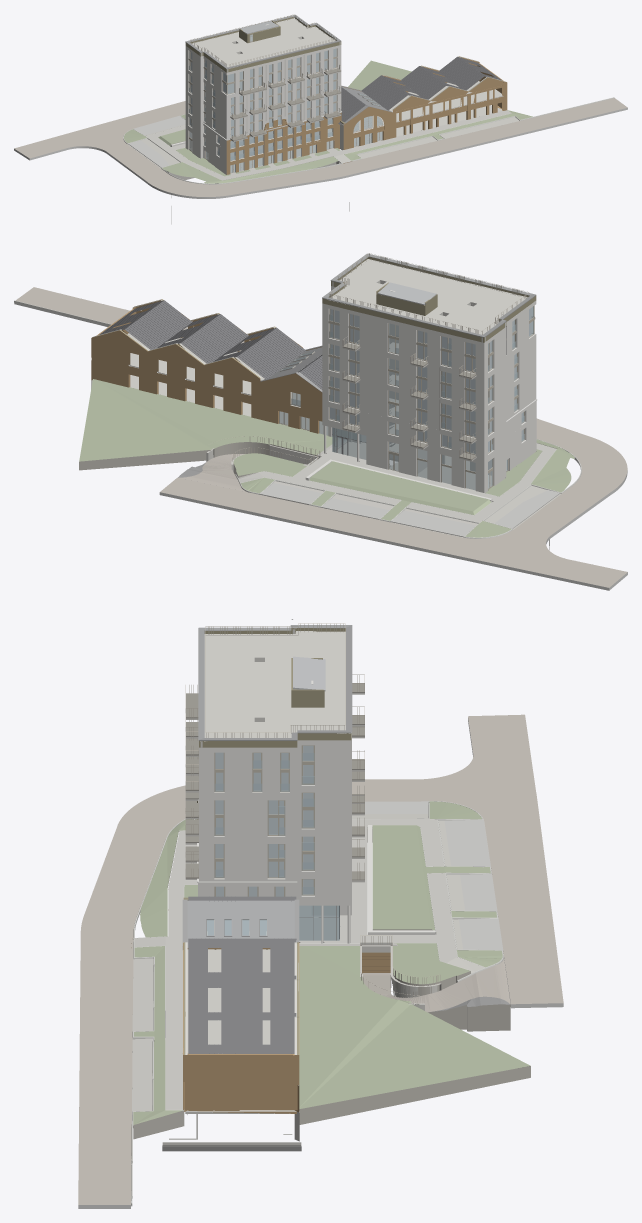
Rendered from building.glb.
3 views of the same model, one above another, from view 1: azimuth 30°, elevation 25°; view 2: azimuth 150°, elevation 25°; view 3: azimuth 270°, elevation 25° (orthographic). The views are drawn at different scales.
Visible parts, largest first — view 1: Building, SitePaving, SiteTerrain, RoofB, FLAT_byt01; view 2: Building, SitePaving, SiteTerrain, RoofB, FLAT_byt03; view 3: Building, SitePaving, SiteTerrain, RoofB, HallEnd.
Boxes of the visible parts, box(x1,y1,x2,y2) form: Building: box(128, 14, 507, 224); SitePaving: box(14, 21, 627, 198); SiteTerrain: box(124, 60, 532, 183); RoofB: box(338, 56, 501, 125); FLAT_byt01: box(205, 60, 261, 93); Building: box(91, 253, 560, 549); SitePaving: box(14, 282, 627, 590); SiteTerrain: box(79, 379, 574, 537); RoofB: box(99, 300, 322, 389); FLAT_byt03: box(418, 330, 491, 371); Building: box(131, 619, 503, 1151); SitePaving: box(78, 656, 563, 1208); SiteTerrain: box(133, 801, 530, 1139); RoofB: box(188, 896, 296, 1053); HallEnd: box(185, 1053, 298, 1110).
Size of what is drawn, in the model's own units: 132 by 43.07 by 55.12.
